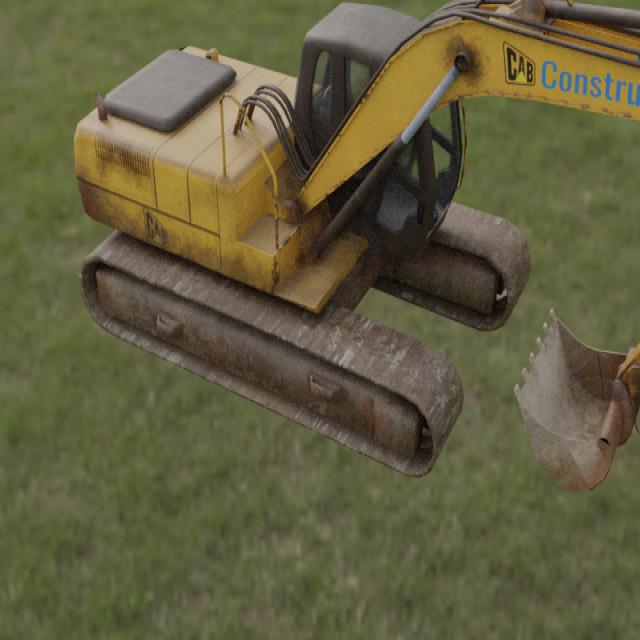excavator: (73, 0, 640, 495)
